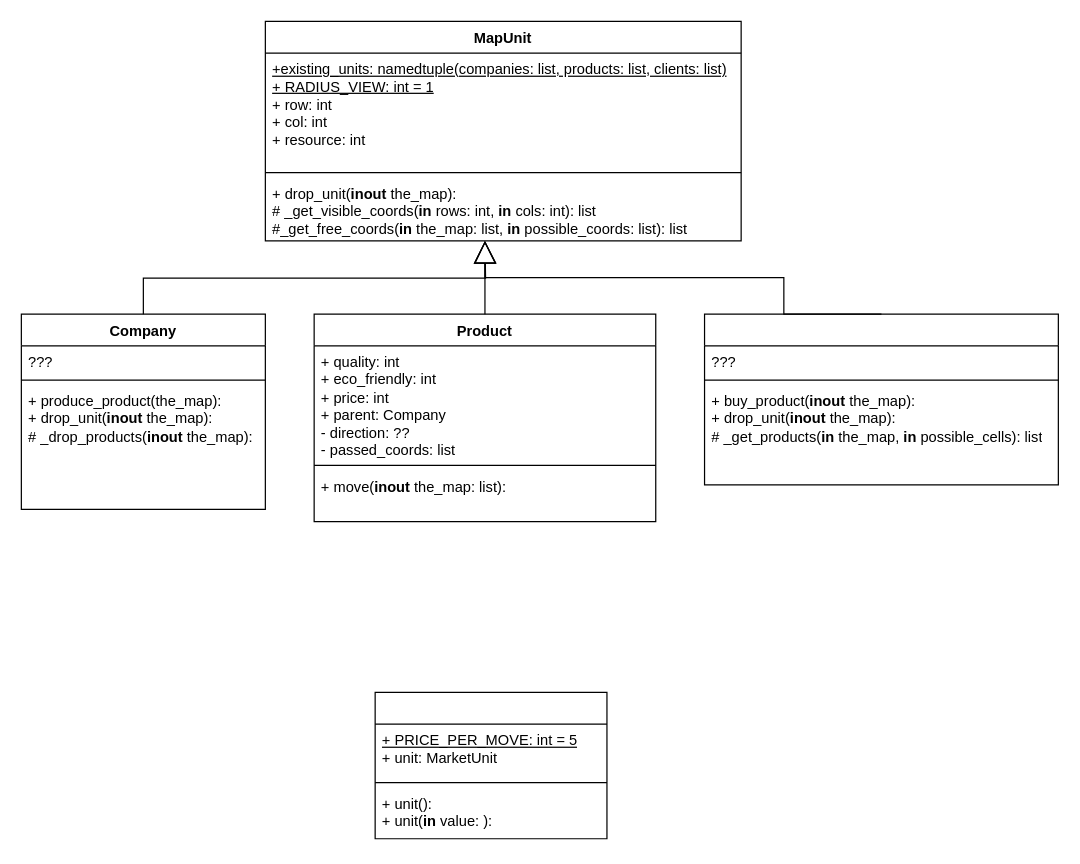
Some shapes in this 1080 by 864 pixel diagram are drawn without their labels. The box of each missing label's shape, as (x1, y1, x2, y2) in pixels:
Cell: (374, 691, 607, 839)
Client: (703, 313, 1058, 485)
